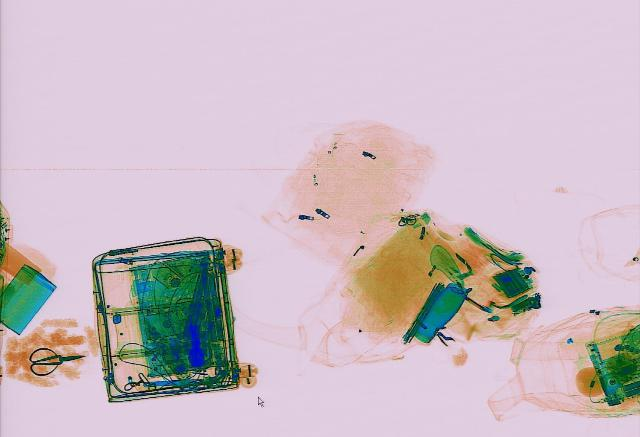Scissors: (26, 341, 94, 375)
